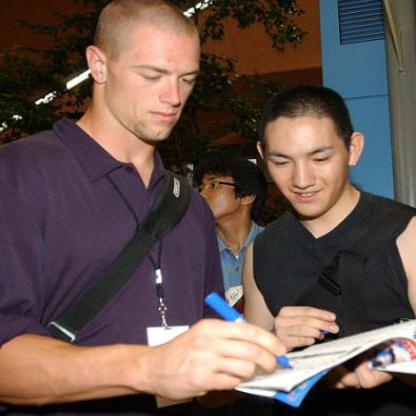face: (107, 9, 205, 146), (265, 95, 351, 219), (200, 157, 246, 221)
